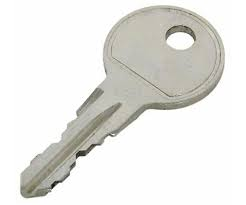kicharina: (17, 3, 231, 199)
